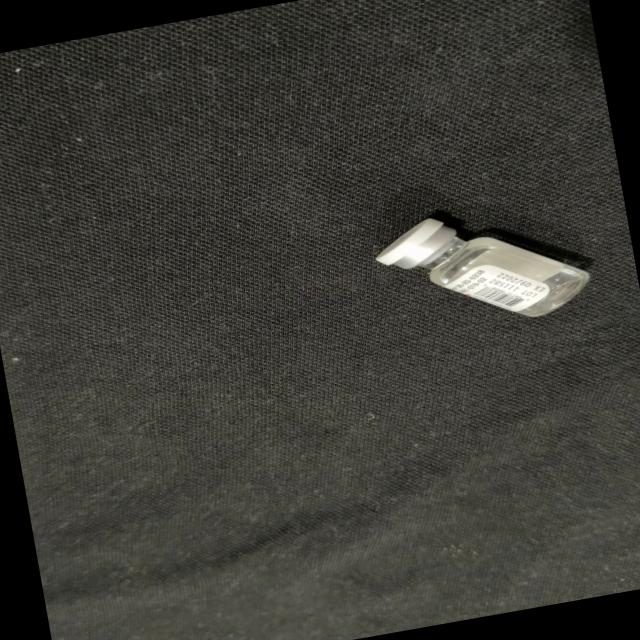fentanl_citrat: (372, 192, 591, 339)
